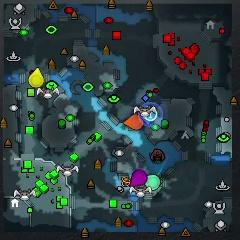Other: (145, 109, 158, 121)
p2: (144, 174, 161, 191)
p3: (129, 170, 148, 187)
p4: (28, 67, 45, 87)
p5: (123, 113, 143, 130)
